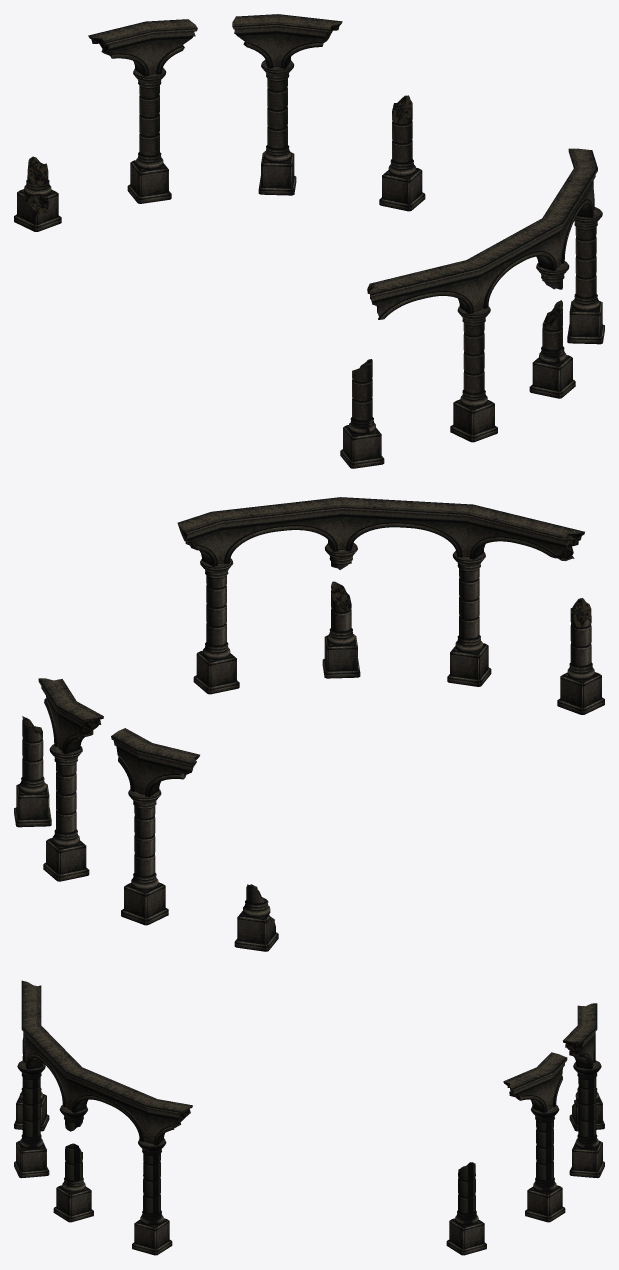
Rendered from EnvMdrMD_Atl_A_Arch_A_Broken.FBX.
3 views of the same model, one above another, from view 1: azimuth 30°, elevation 25°; view 2: azimuth 150°, elevation 25°; view 3: azimuth 270°, elevation 25° (orthographic). The views are drawn at different scales.
Visible parts, largest first — view 1: EnvMdrMD_Atl_A_Arch_A_Broken; view 2: EnvMdrMD_Atl_A_Arch_A_Broken; view 3: EnvMdrMD_Atl_A_Arch_A_Broken.
Part boxes in pixels (bbox=[...]): EnvMdrMD_Atl_A_Arch_A_Broken: bbox=[14, 14, 604, 468]; EnvMdrMD_Atl_A_Arch_A_Broken: bbox=[14, 497, 604, 951]; EnvMdrMD_Atl_A_Arch_A_Broken: bbox=[14, 980, 604, 1255].
Bounding box in the file's own units: 1840 × 885 × 3285.
